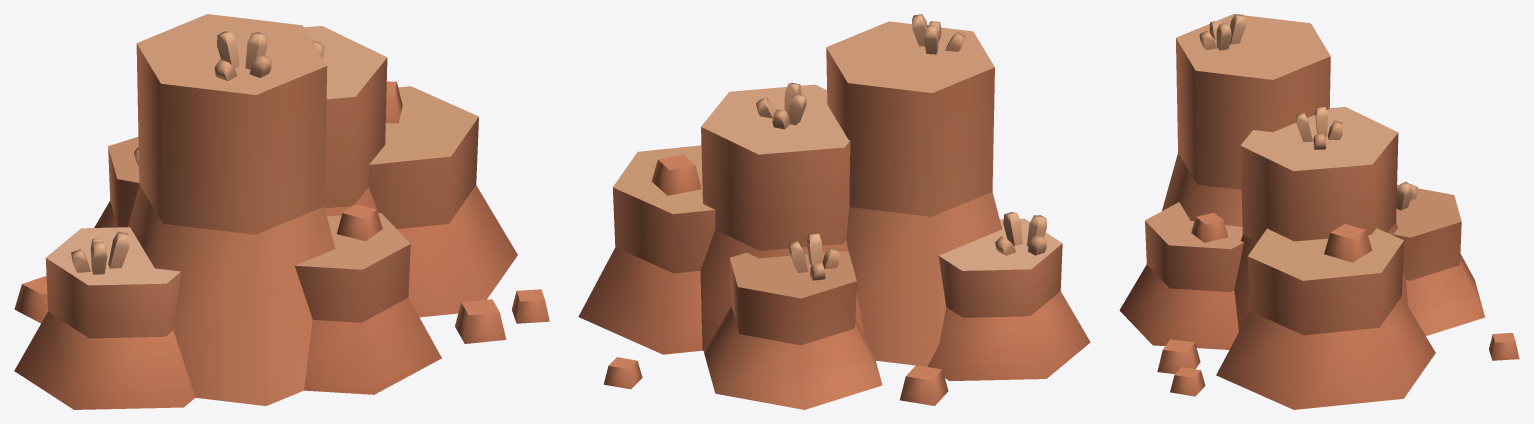
The model's file is kenney-pirate-rocks-sand-a.glb.
The picture shows the model from 3 angles, left to right: view 1: azimuth 30°, elevation 25°; view 2: azimuth 150°, elevation 25°; view 3: azimuth 270°, elevation 25°; orthographic projection. The views are drawn at different scales.
Visible parts, largest first — view 1: rocks-sand-a; view 2: rocks-sand-a; view 3: rocks-sand-a.
Part boxes in pixels (x1,y1,x2,y2): rocks-sand-a: (14,14,549,409); rocks-sand-a: (578,14,1090,409); rocks-sand-a: (1119,14,1519,409).
Bounding box in the file's own units: 5.11 × 3.21 × 4.39.
1 material, 1 textured.
